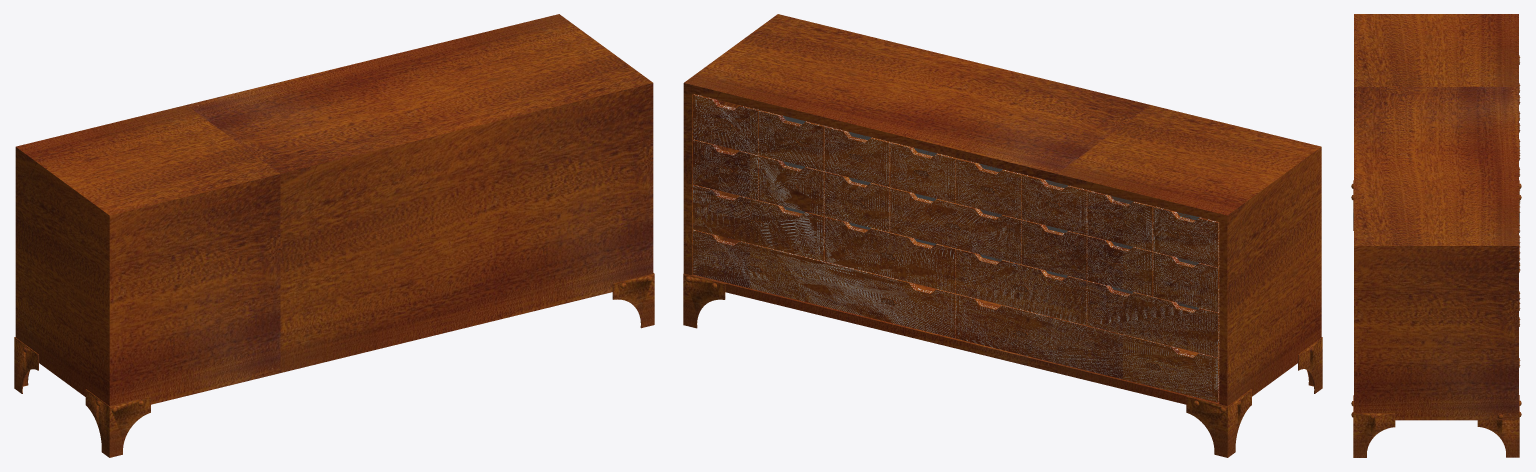
The picture shows the model from 3 angles, left to right: view 1: azimuth 30°, elevation 25°; view 2: azimuth 150°, elevation 25°; view 3: azimuth 270°, elevation 25°; orthographic projection. The views are drawn at different scales.
Parts seen in each view (by area): view 1: mesh1_mesh1-geometry, mesh32_mesh32-geometry, mesh29_mesh29-geometry; view 2: mesh1_mesh1-geometry, mesh28_mesh28-geometry, mesh10_mesh10-geometry, mesh27_mesh27-geometry, mesh26_mesh26-geometry, mesh25_mesh25-geometry, mesh21_mesh21-geometry, mesh24_mesh24-geometry, mesh13_mesh13-geometry, mesh15_mesh15-geometry, mesh16_mesh16-geometry, mesh8_mesh8-geometry (+13 smaller); view 3: mesh1_mesh1-geometry, mesh32_mesh32-geometry, mesh29_mesh29-geometry, mesh4_mesh4-geometry.
Part boxes in pixels (x1=…): mesh1_mesh1-geometry: x1=15, y1=14, x2=653, y2=405; mesh32_mesh32-geometry: x1=14, y1=273, x2=654, y2=393; mesh29_mesh29-geometry: x1=85, y1=389, x2=150, y2=457; mesh1_mesh1-geometry: x1=683, y1=14, x2=1321, y2=406; mesh28_mesh28-geometry: x1=956, y1=294, x2=1219, y2=402; mesh10_mesh10-geometry: x1=693, y1=229, x2=956, y2=338; mesh27_mesh27-geometry: x1=1087, y1=281, x2=1219, y2=357; mesh26_mesh26-geometry: x1=956, y1=249, x2=1087, y2=325; mesh25_mesh25-geometry: x1=824, y1=216, x2=956, y2=293; mesh21_mesh21-geometry: x1=890, y1=187, x2=1021, y2=264; mesh24_mesh24-geometry: x1=693, y1=184, x2=824, y2=261; mesh13_mesh13-geometry: x1=824, y1=126, x2=891, y2=186; mesh15_mesh15-geometry: x1=1087, y1=190, x2=1153, y2=251; mesh16_mesh16-geometry: x1=1153, y1=206, x2=1219, y2=267; mesh8_mesh8-geometry: x1=1021, y1=174, x2=1088, y2=235; mesh1_mesh1-geometry: x1=1354, y1=14, x2=1518, y2=420; mesh32_mesh32-geometry: x1=1351, y1=180, x2=1521, y2=457; mesh29_mesh29-geometry: x1=1351, y1=180, x2=1521, y2=457; mesh4_mesh4-geometry: x1=1519, y1=55, x2=1520, y2=367.
Size of the model in its own units: 0.8869 by 0.3733 by 0.272.
